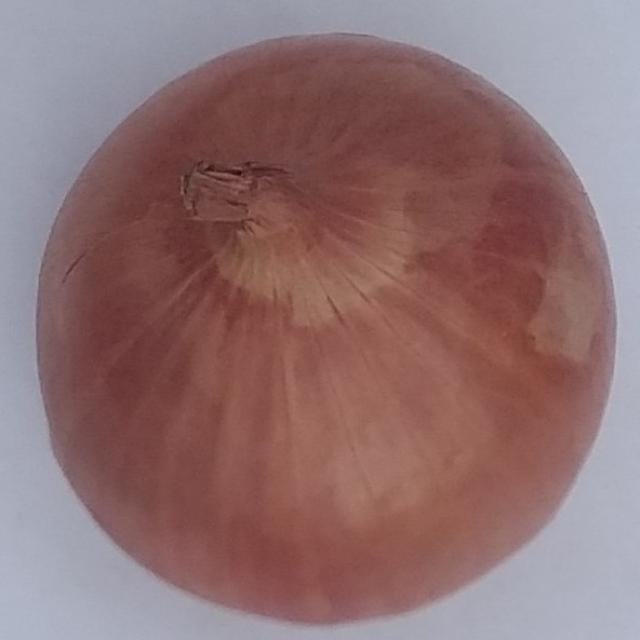onion: (31, 32, 620, 630)
